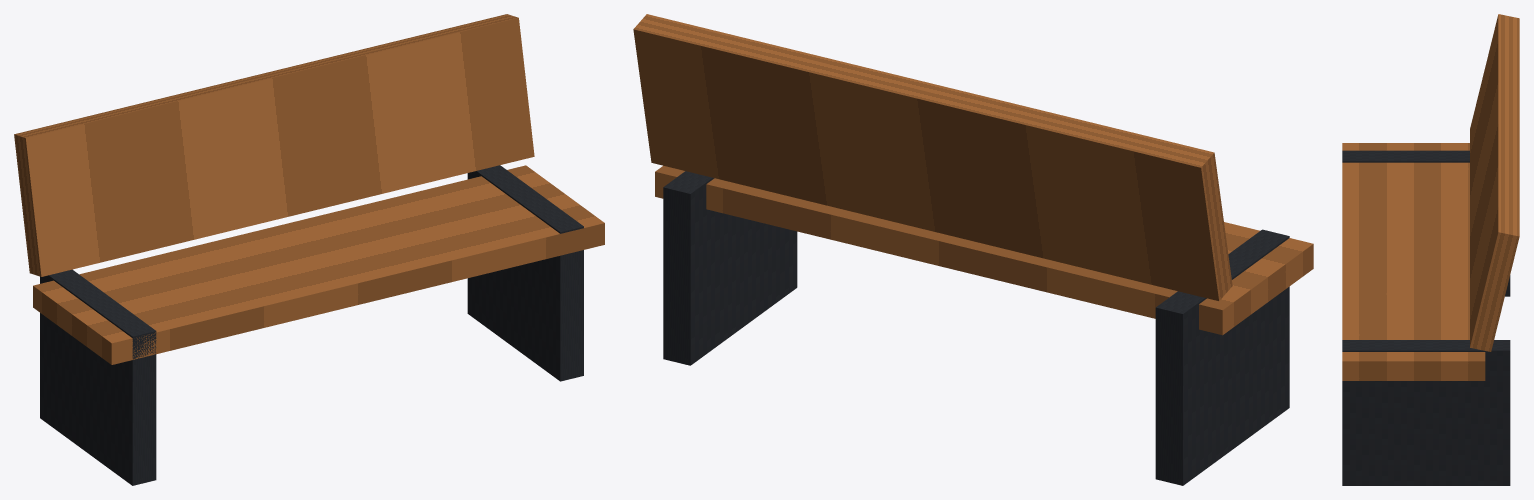
File: park-bench-lod1.glb
The picture shows the model from 3 angles, left to right: view 1: azimuth 30°, elevation 25°; view 2: azimuth 150°, elevation 25°; view 3: azimuth 270°, elevation 25°; orthographic projection. The views are drawn at different scales.
Parts seen in each view (by area): view 1: park-bench-lod1; view 2: park-bench-lod1; view 3: park-bench-lod1.
Boxes of the visible parts, <box> form: park-bench-lod1: <box>14,14,604,485</box>; park-bench-lod1: <box>633,14,1313,485</box>; park-bench-lod1: <box>1342,14,1519,485</box>.
Size of the model in its own units: 1.66 by 0.9326 by 0.57.
Materials: 1 (1 with a texture image).
